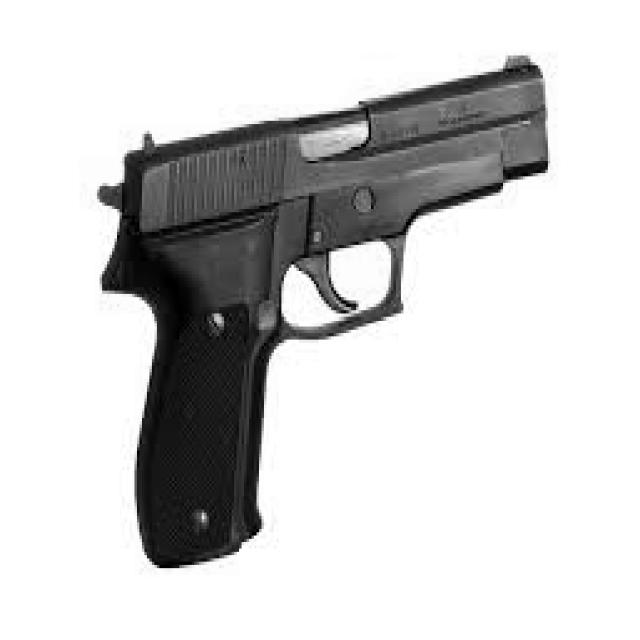gun: (95, 52, 548, 568)
